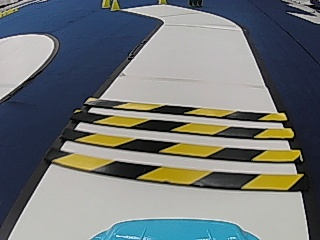bump: (51, 94, 301, 197)
